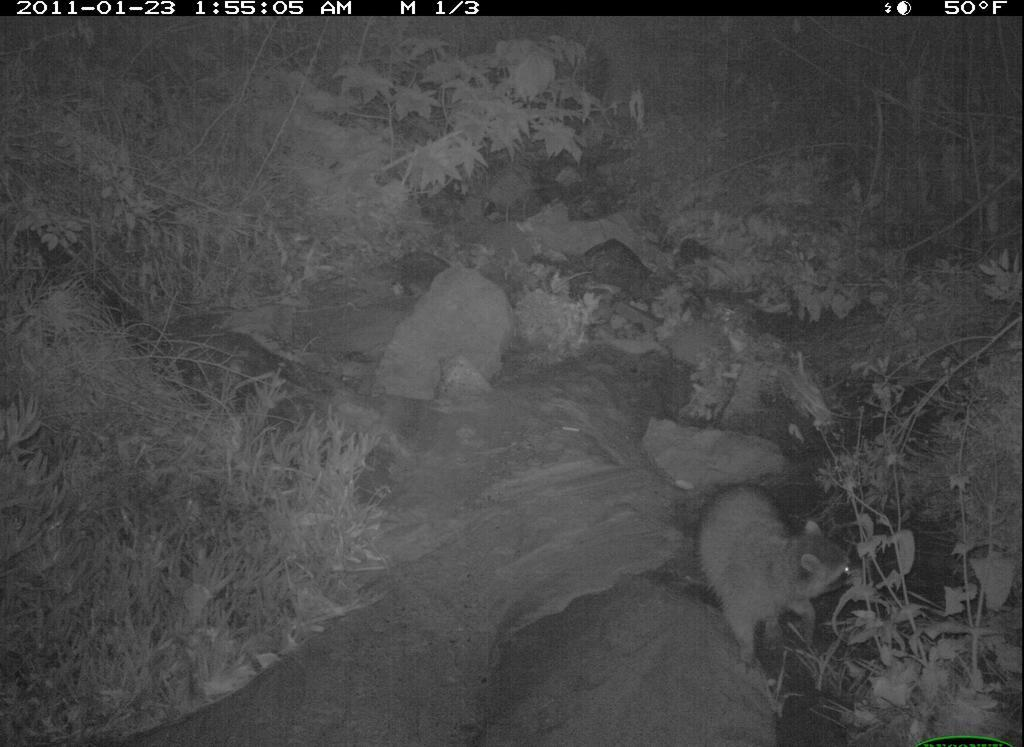raccoon: (680, 477, 856, 666)
